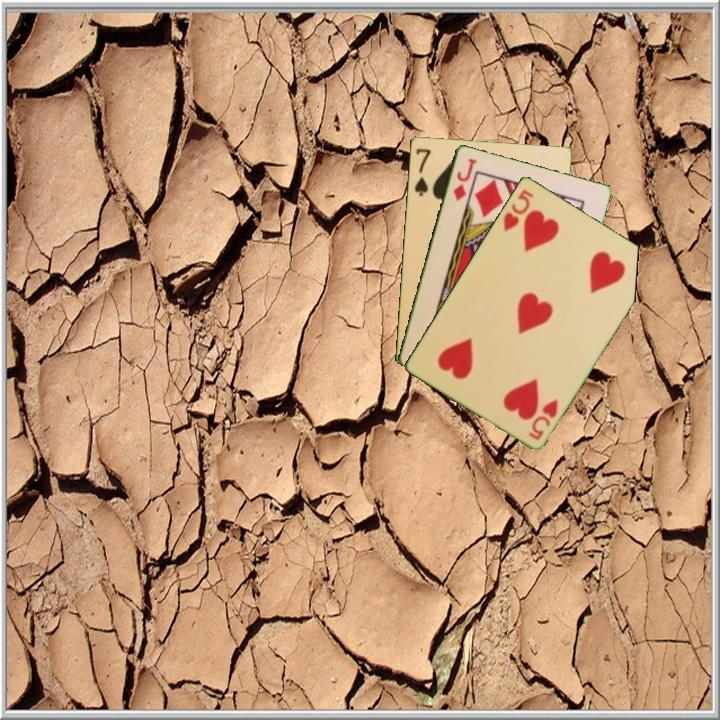5h: (499, 185, 536, 234), (525, 395, 561, 443)
7s: (411, 145, 433, 199)
Jd: (449, 154, 479, 203)
